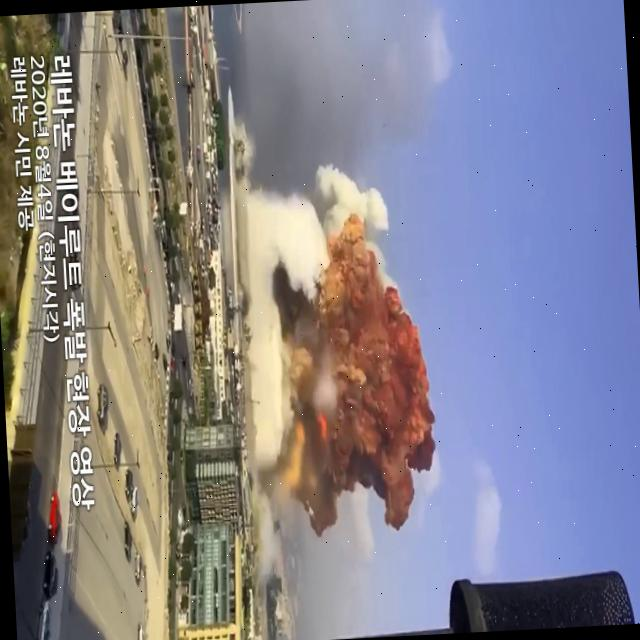explosion: (216, 153, 450, 542)
